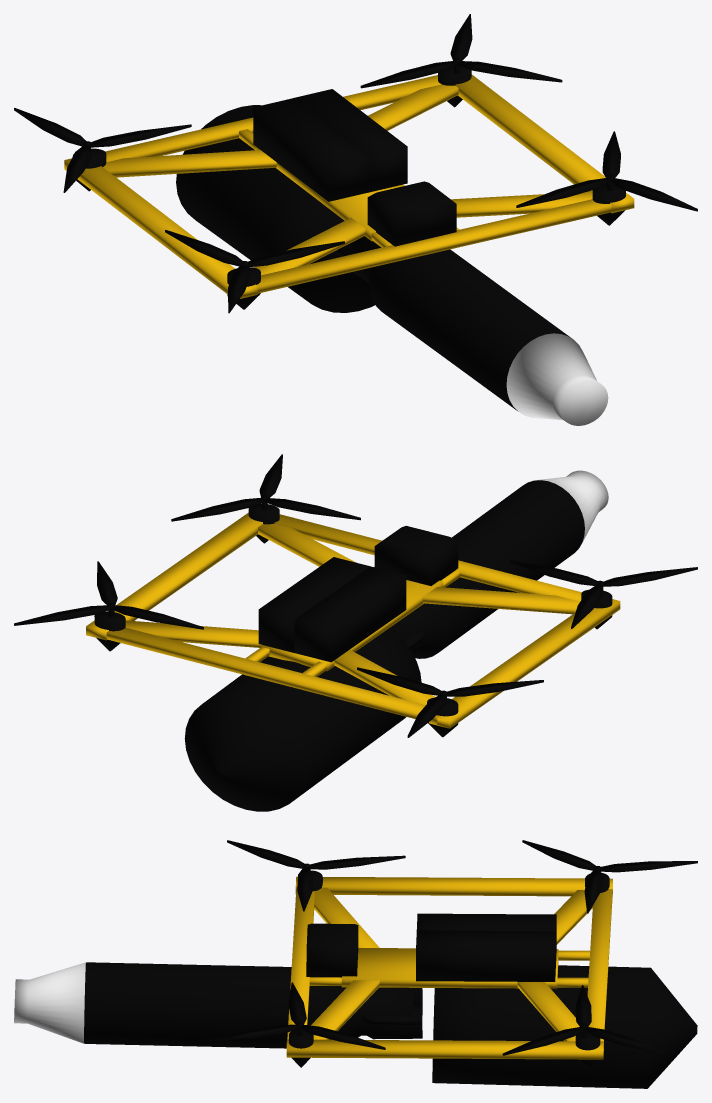
The model's file is KVN2.fbx.
The picture shows the model from 3 angles, top to bottom: view 1: azimuth 30°, elevation 25°; view 2: azimuth 150°, elevation 25°; view 3: azimuth 270°, elevation 25°; orthographic projection. The views are drawn at different scales.
Parts seen in each view (by area): view 1: Cylinder.007, Cylinder, Cylinder.005, Cylinder.001, Cylinder.003, Cylinder.002; view 2: Cylinder.007, Cylinder, Cylinder.001, Cylinder.003, Cylinder.005, Cylinder.002; view 3: Cylinder.007, Cylinder, Cylinder.001, Cylinder.002, Cylinder.005, Cylinder.003.
Part boxes in pixels (x1=…): Cylinder.007: x1=64, y1=66, x2=634, y2=312; Cylinder: x1=334, y1=236, x2=608, y2=425; Cylinder.005: x1=360, y1=14, x2=562, y2=88; Cylinder.001: x1=516, y1=131, x2=697, y2=211; Cylinder.003: x1=14, y1=108, x2=191, y2=192; Cylinder.002: x1=165, y1=230, x2=344, y2=313; Cylinder.007: x1=86, y1=503, x2=620, y2=811; Cylinder: x1=390, y1=470, x2=608, y2=658; Cylinder.001: x1=171, y1=454, x2=360, y2=521; Cylinder.003: x1=357, y1=667, x2=543, y2=737; Cylinder.005: x1=14, y1=561, x2=203, y2=629; Cylinder.002: x1=509, y1=560, x2=697, y2=628; Cylinder.007: x1=286, y1=870, x2=697, y2=1088; Cylinder: x1=14, y1=962, x2=422, y2=1048; Cylinder.001: x1=204, y1=982, x2=385, y2=1049; Cylinder.002: x1=227, y1=840, x2=405, y2=911; Cylinder.005: x1=502, y1=985, x2=666, y2=1055; Cylinder.003: x1=522, y1=840, x2=697, y2=913.
Size of the model in its own units: 61.89 by 20.25 by 83.69.
